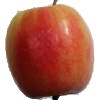apple: (4, 4, 94, 100)
